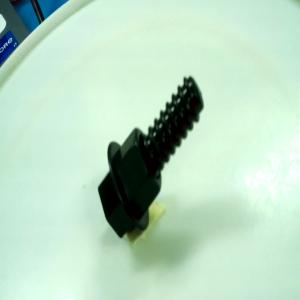parafuso: (96, 72, 206, 246), (98, 75, 206, 236)
